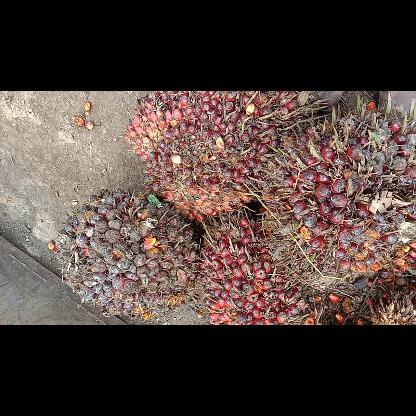Kurang masak: (53, 186, 201, 320)
TBS masak: (258, 100, 414, 290), (120, 90, 308, 226), (197, 214, 323, 324)
